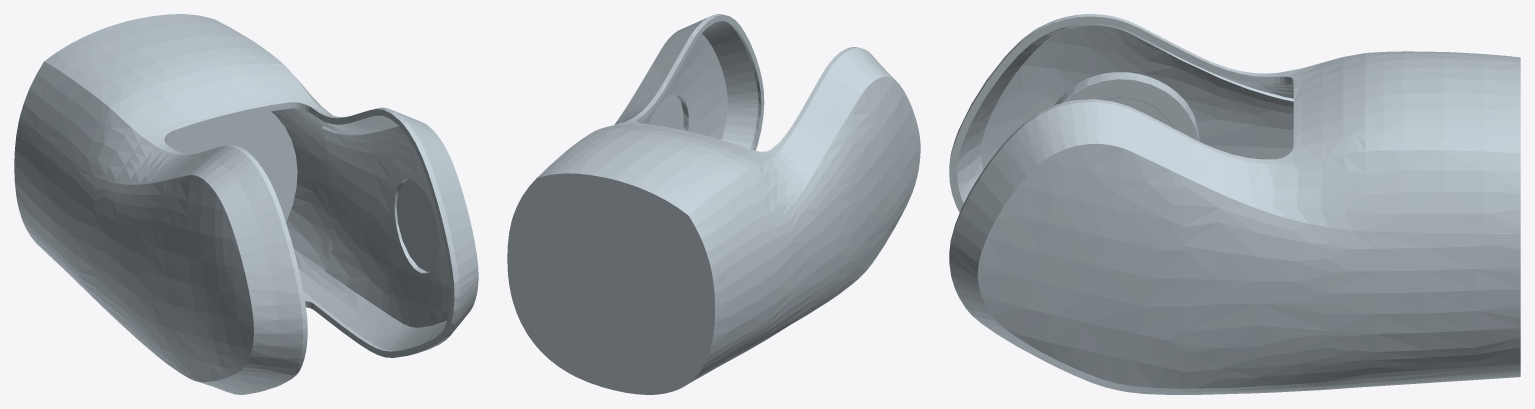
Rendered from right_shoulder_roll_link.dae.
The picture shows the model from 3 angles, left to right: view 1: azimuth 30°, elevation 25°; view 2: azimuth 150°, elevation 25°; view 3: azimuth 270°, elevation 25°; orthographic projection. The views are drawn at different scales.
Parts seen in each view (by area): view 1: right_shoulder_roll_link; view 2: right_shoulder_roll_link; view 3: right_shoulder_roll_link.
Boxes of the visible parts, x1=… form: right_shoulder_roll_link: x1=14, y1=14, x2=478, y2=394; right_shoulder_roll_link: x1=507, y1=14, x2=920, y2=394; right_shoulder_roll_link: x1=949, y1=14, x2=1520, y2=394.
Size of the model in its own units: 0.0862 by 0.0871 by 0.1491.
